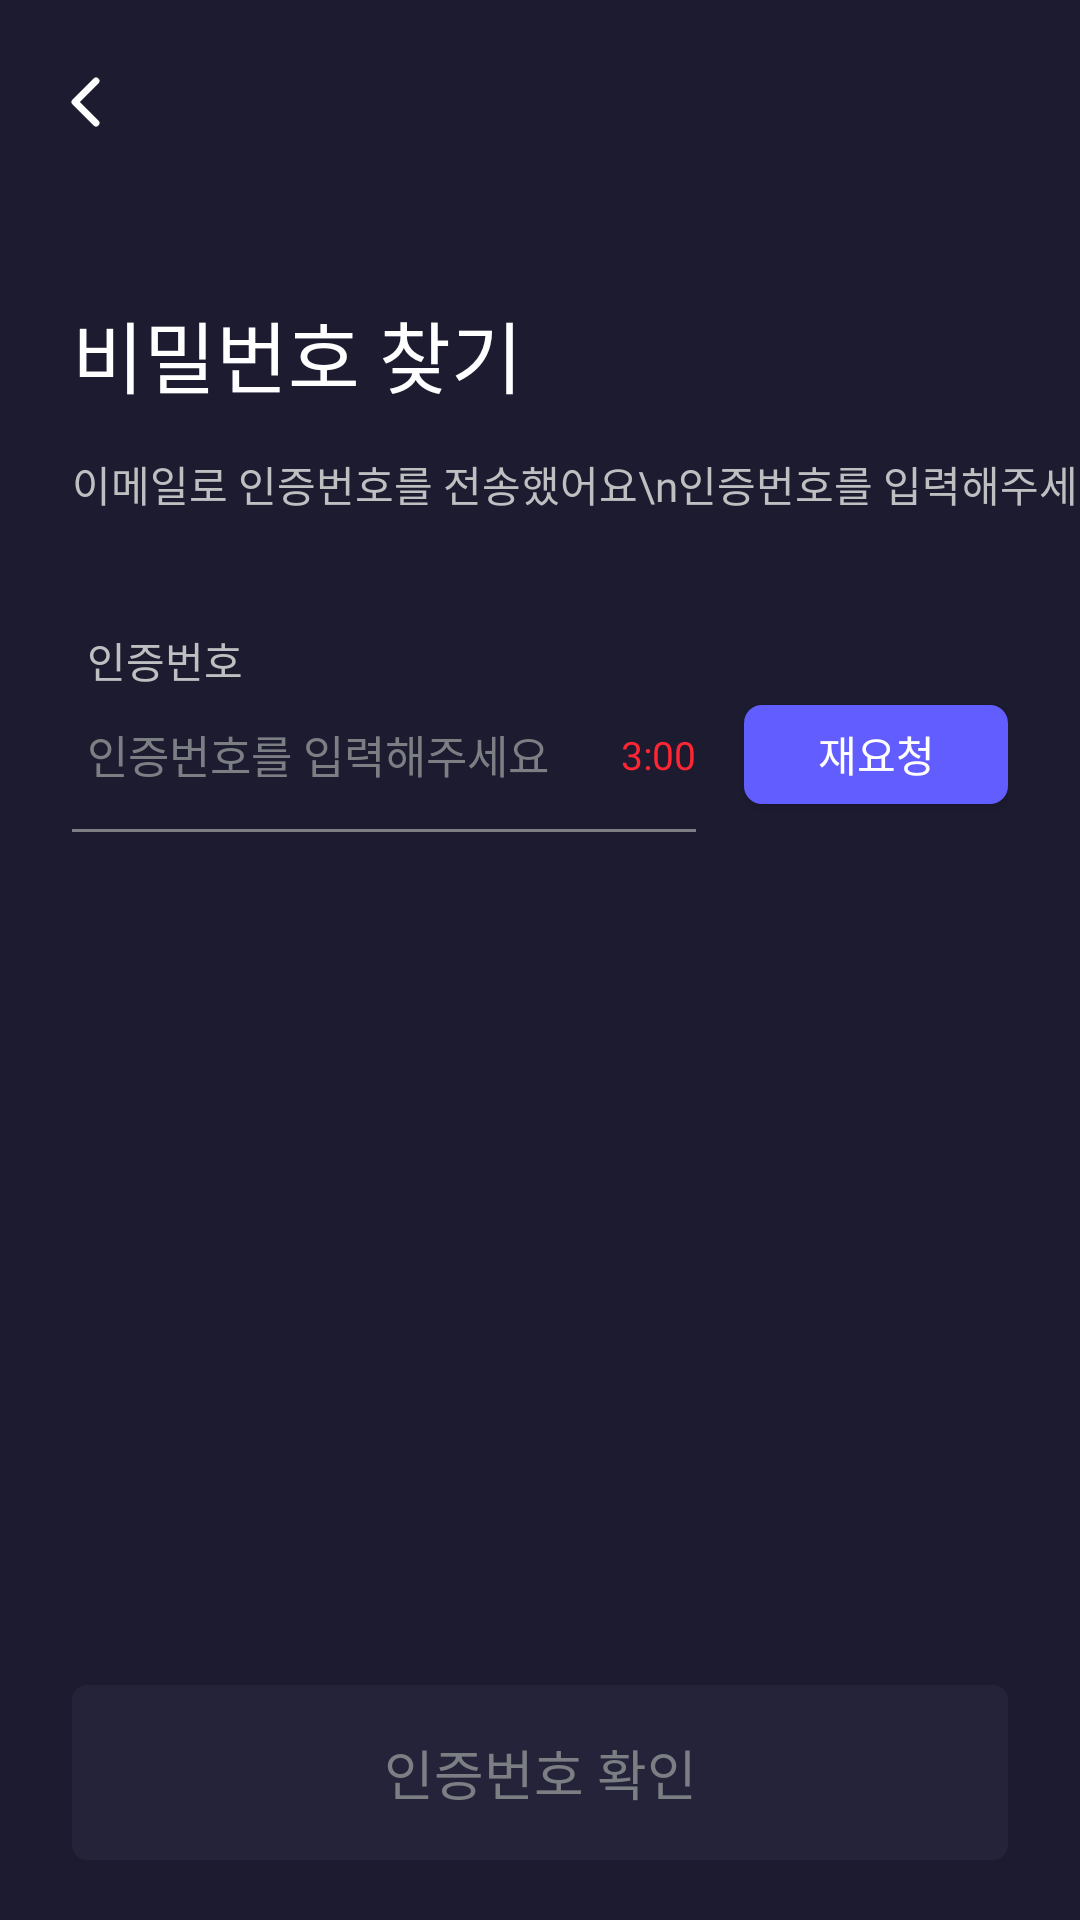

Icon bounding boxes for this 1080 × 1920 phone screenshot, format (x1, y1, x2, y2):
arrow left: (71, 77, 100, 127)
